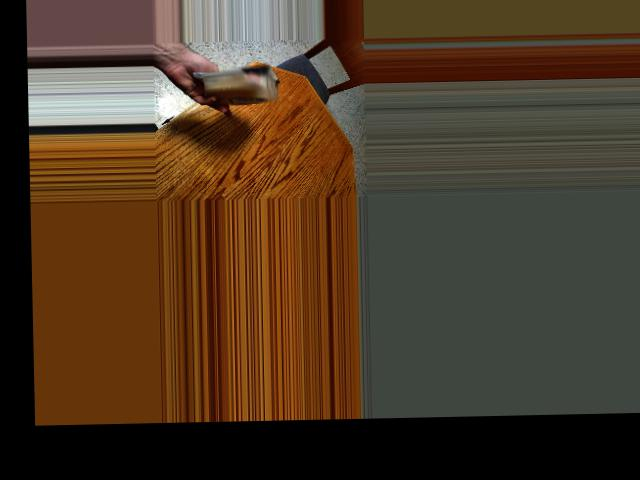cheese: (200, 58, 276, 114)
